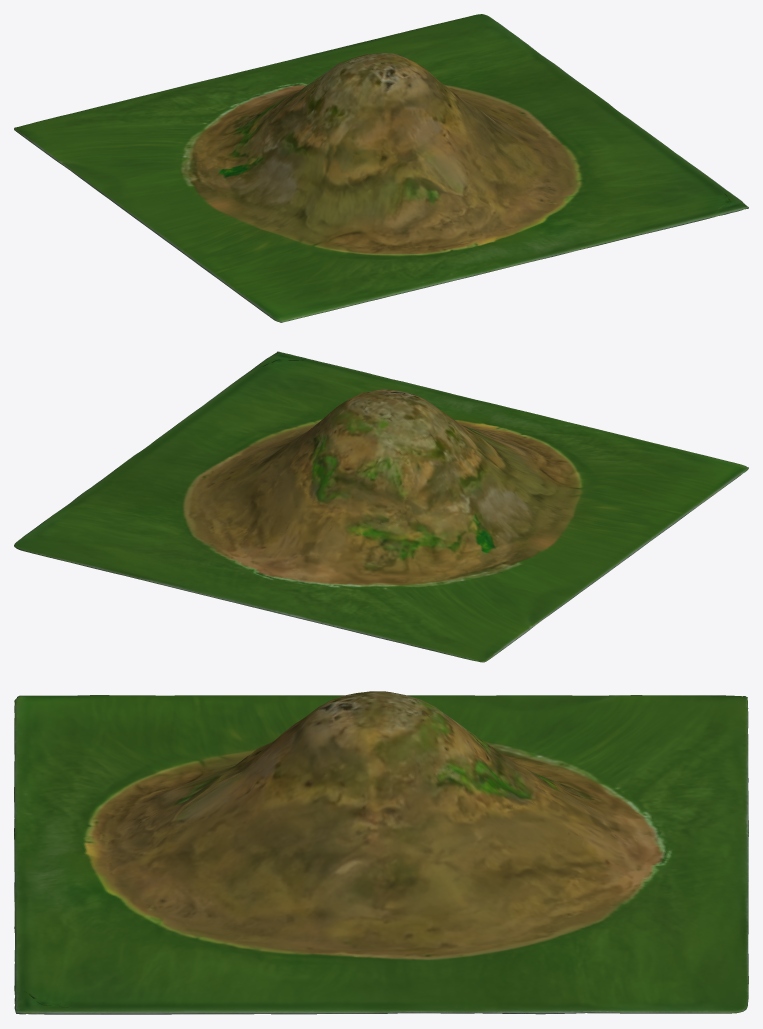
3 renders of one model, top to bottom at view 1: azimuth 30°, elevation 25°; view 2: azimuth 150°, elevation 25°; view 3: azimuth 270°, elevation 25°, orthographic. The views are drawn at different scales.
Parts seen in each view (by area): view 1: Mesh; view 2: Mesh; view 3: Mesh.
Boxes of the visible parts, x1,y1,x2,y2 form: Mesh: [14, 14, 748, 322]; Mesh: [14, 351, 748, 662]; Mesh: [14, 691, 748, 1014].
Size of the model in its own units: 0.703 by 0.1564 by 0.6869.
Materials: 1 (1 with a texture image).
